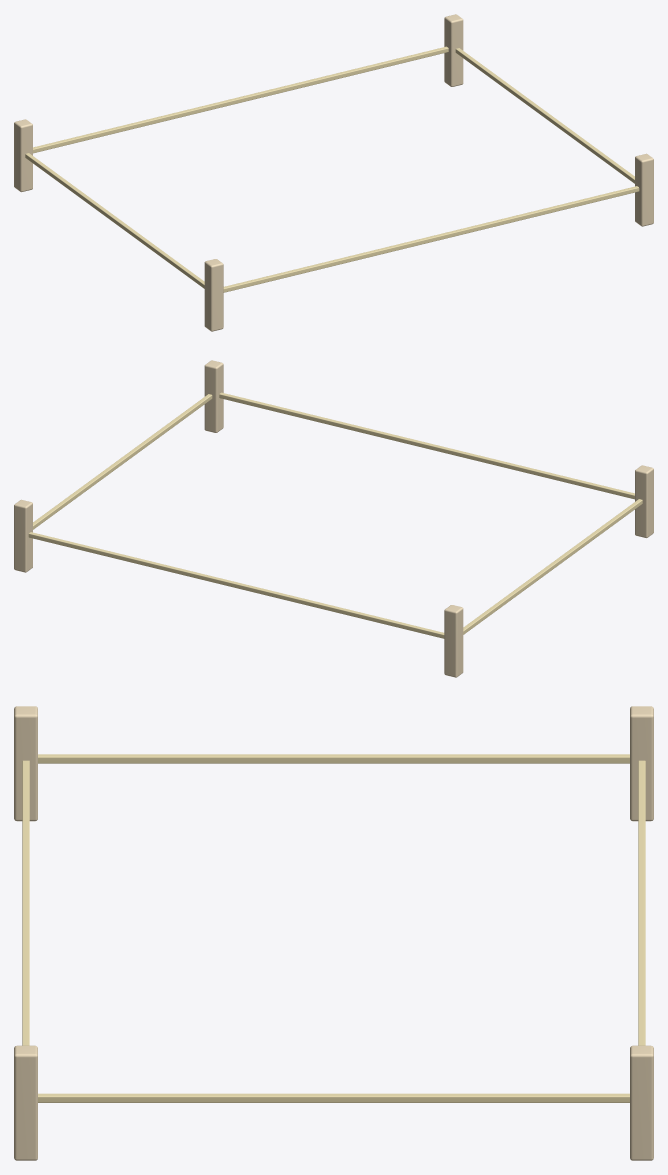
The model's file is kitchen-garden-planned.glb.
3 renders of one model, top to bottom at view 1: azimuth 30°, elevation 25°; view 2: azimuth 150°, elevation 25°; view 3: azimuth 270°, elevation 25°, orthographic. The views are drawn at different scales.
Parts seen in each view (by area): view 1: Setting-out cord.028, Setting-out cord.029, Setting-out cord.030, Setting-out cord.031, Survey peg.028, Survey peg.031, Survey peg.030, Survey peg.029; view 2: Setting-out cord.029, Setting-out cord.028, Setting-out cord.030, Setting-out cord.031, Survey peg.029, Survey peg.030, Survey peg.031, Survey peg.028; view 3: Setting-out cord.030, Setting-out cord.031, Survey peg.030, Survey peg.031, Survey peg.028, Survey peg.029, Setting-out cord.028, Setting-out cord.029.
Boxes of the visible parts, box(x1,y1,x2,y2) form: Setting-out cord.028: box(223, 186, 639, 292); Setting-out cord.029: box(33, 46, 448, 153); Setting-out cord.030: box(25, 153, 204, 288); Setting-out cord.031: box(455, 48, 634, 183); Survey peg.028: box(204, 259, 223, 331); Survey peg.031: box(444, 14, 463, 86); Survey peg.030: box(635, 153, 653, 226); Survey peg.029: box(14, 119, 32, 192); Setting-out cord.029: box(28, 532, 444, 638); Setting-out cord.028: box(219, 392, 634, 499); Setting-out cord.030: box(463, 499, 642, 634); Setting-out cord.031: box(33, 394, 212, 529); Survey peg.029: box(444, 605, 463, 677); Survey peg.030: box(204, 360, 223, 432); Survey peg.031: box(14, 499, 32, 572); Survey peg.028: box(635, 465, 653, 538); Setting-out cord.030: box(38, 754, 629, 763); Setting-out cord.031: box(38, 1093, 629, 1102); Survey peg.030: box(14, 1045, 37, 1160); Survey peg.031: box(630, 1045, 653, 1160); Survey peg.028: box(14, 706, 37, 821); Survey peg.029: box(630, 706, 653, 821); Setting-out cord.028: box(22, 760, 29, 1045); Setting-out cord.029: box(638, 760, 645, 1045).
Bounding box in the file's own units: 3.09 × 0.44 × 2.39.
